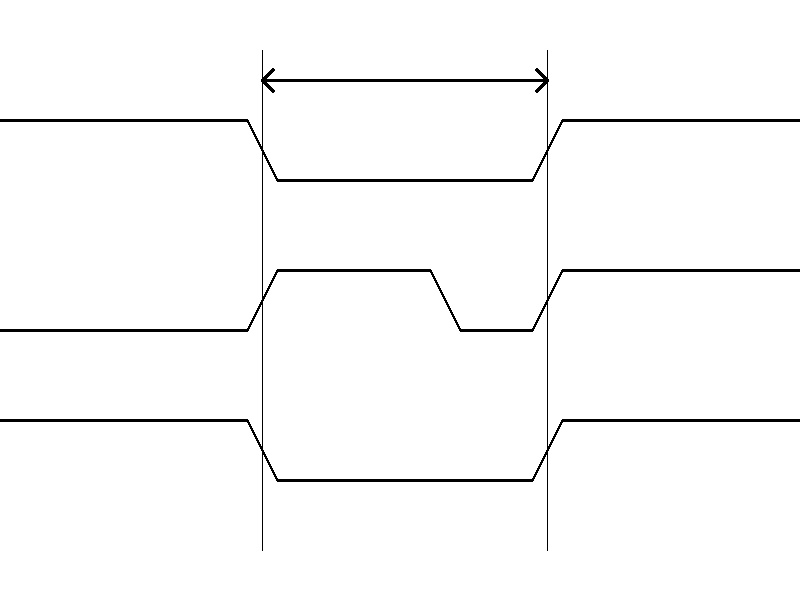double_arrow: (262, 65, 547, 95)
